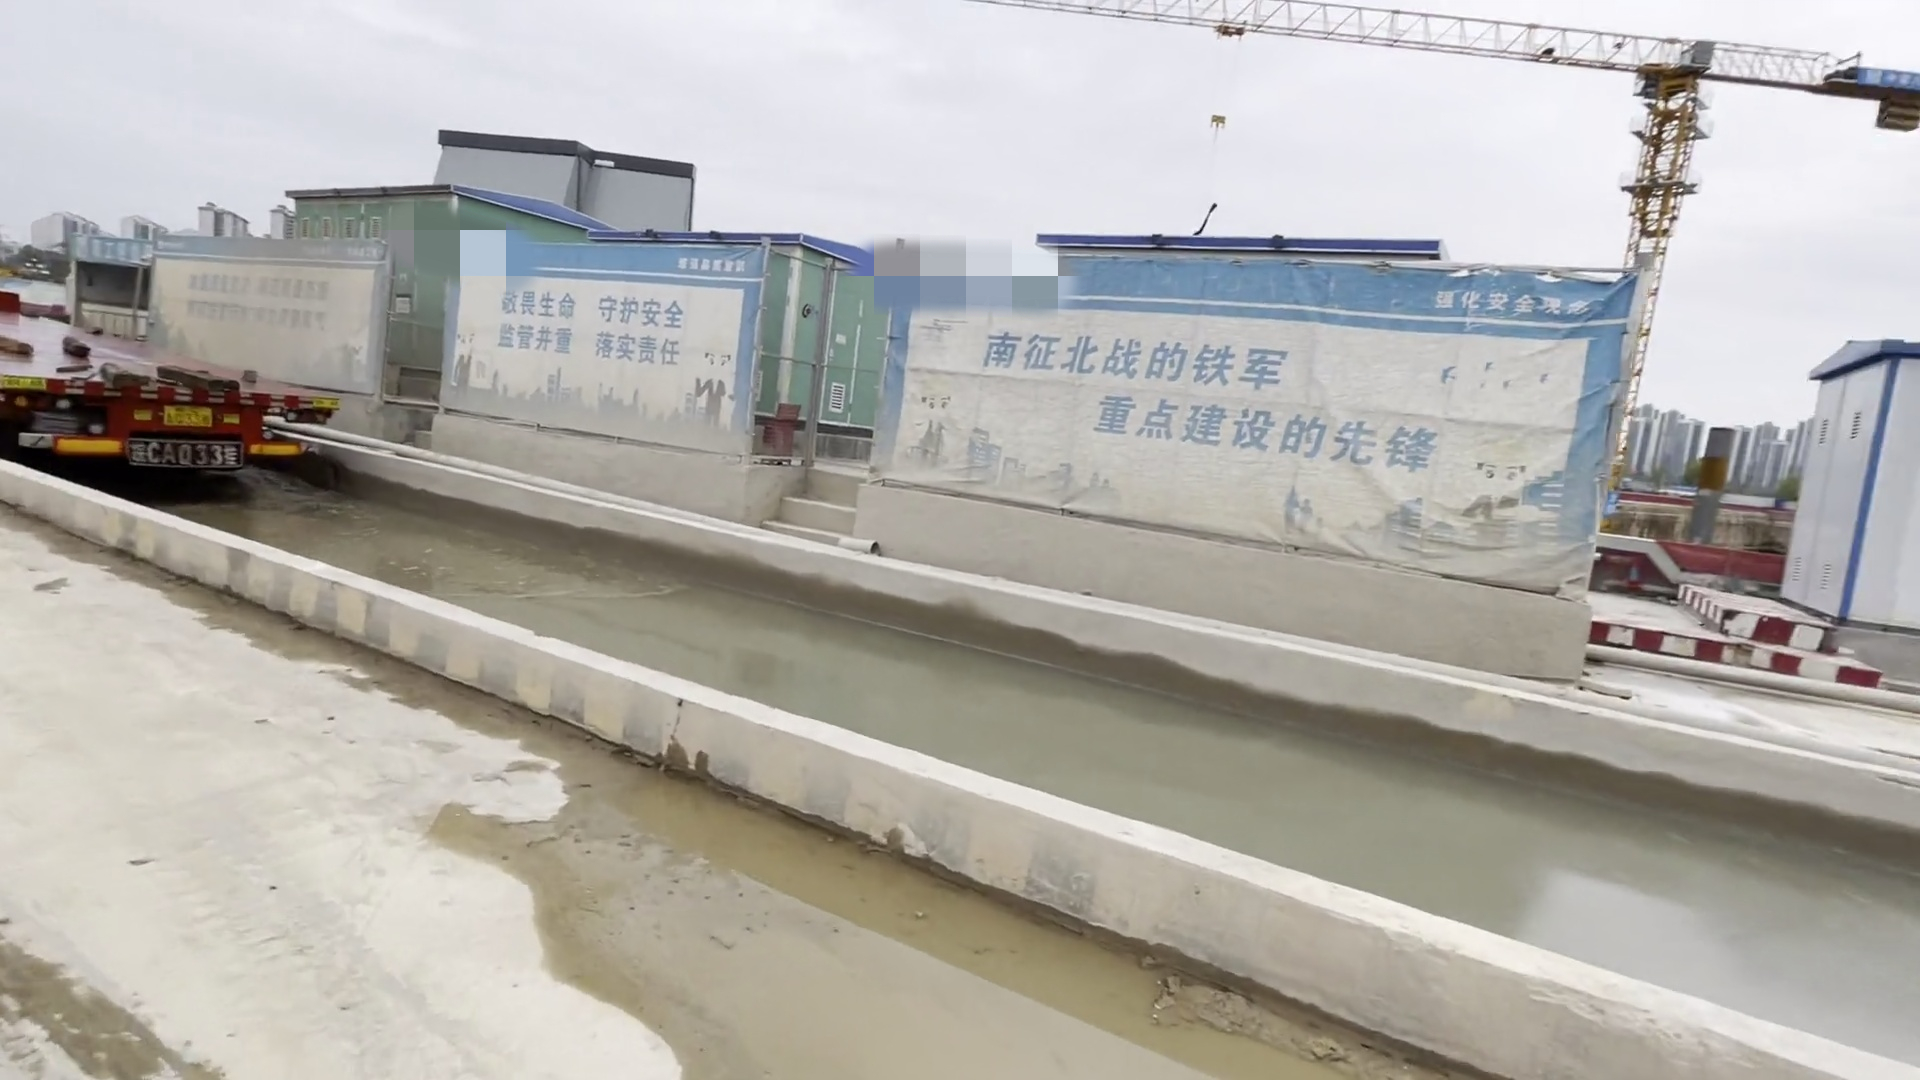hook: (1207, 112, 1226, 131)
slogan: (909, 278, 1604, 483), (465, 237, 765, 368), (149, 240, 397, 331)
